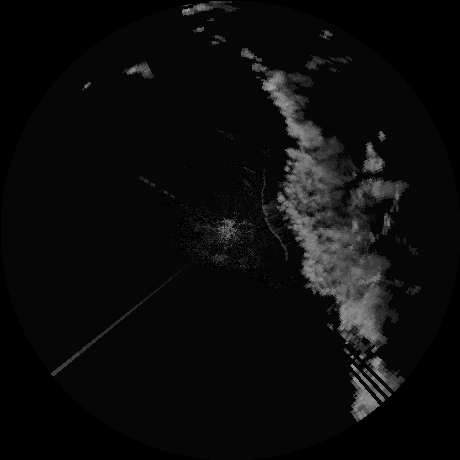frontgust: (258, 174, 276, 234), (276, 237, 290, 263)
